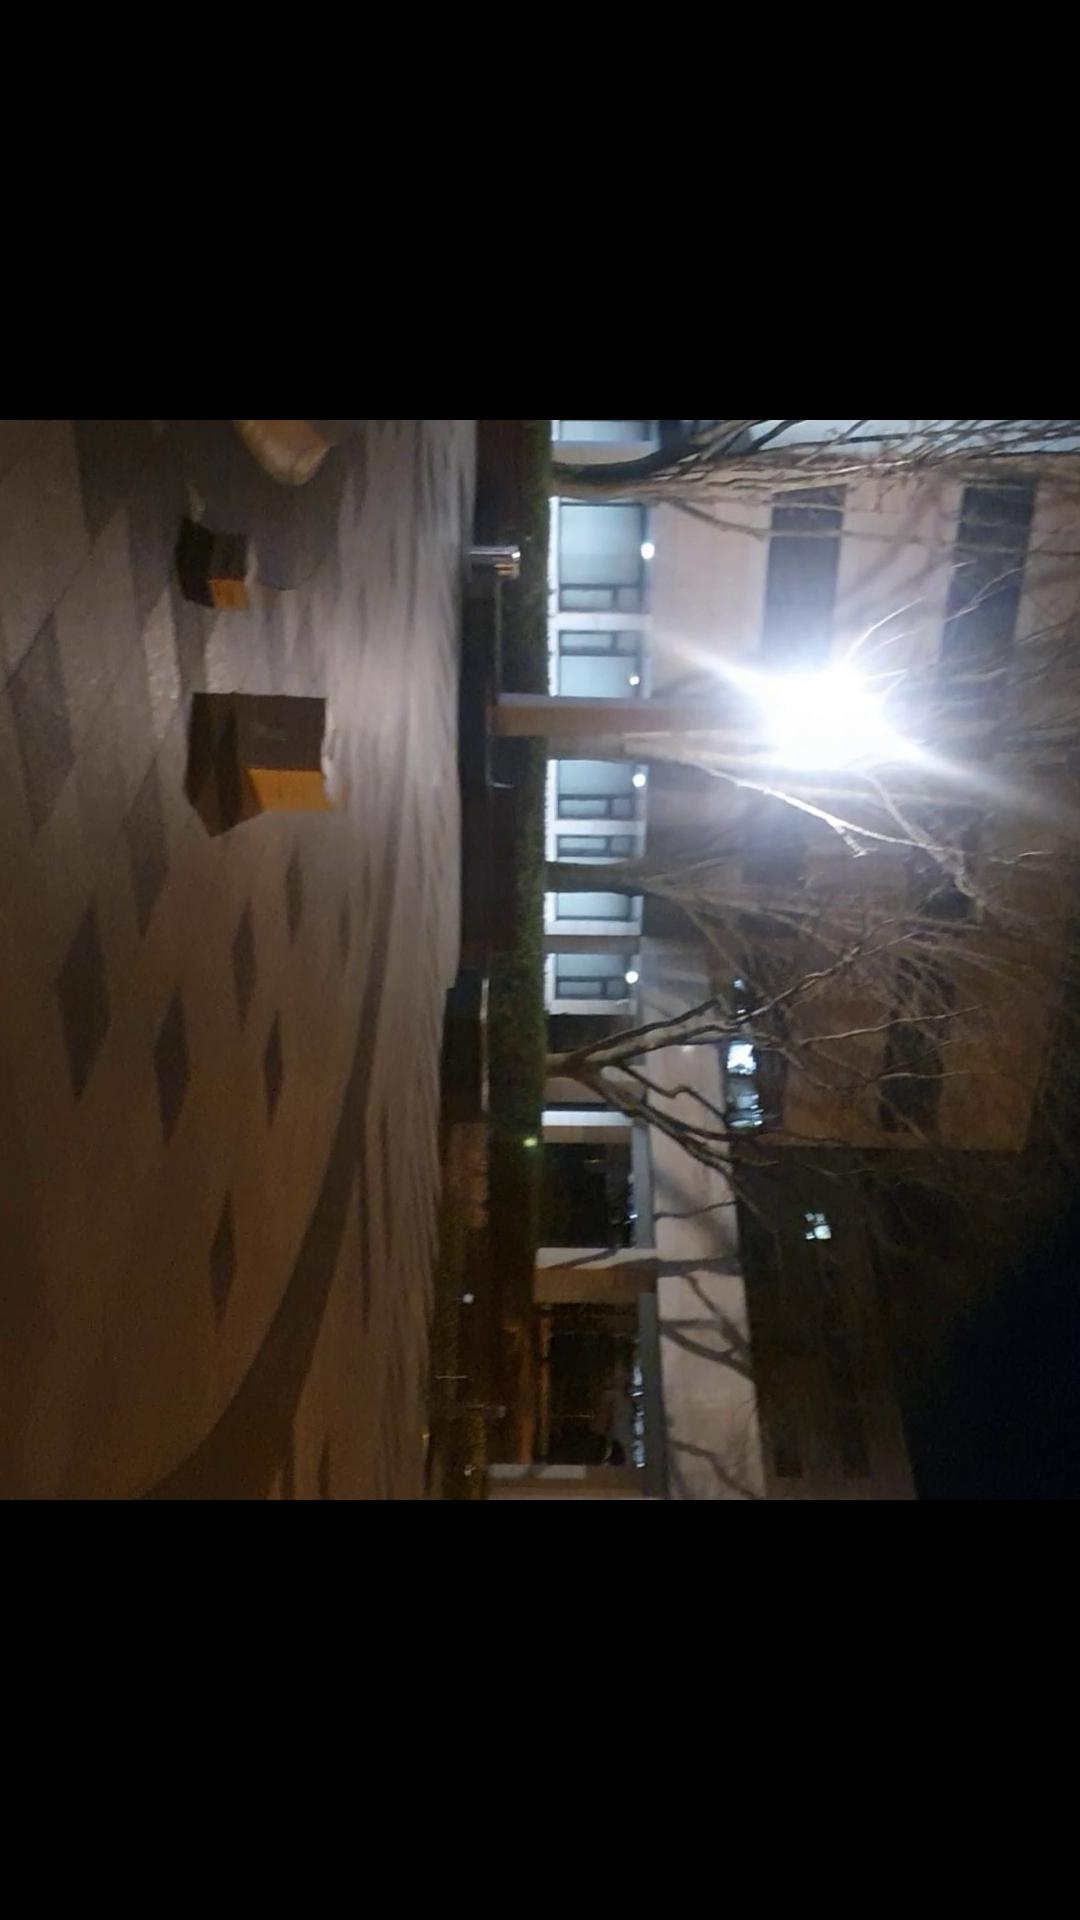Box: (235, 688, 349, 812), (190, 526, 260, 613)
